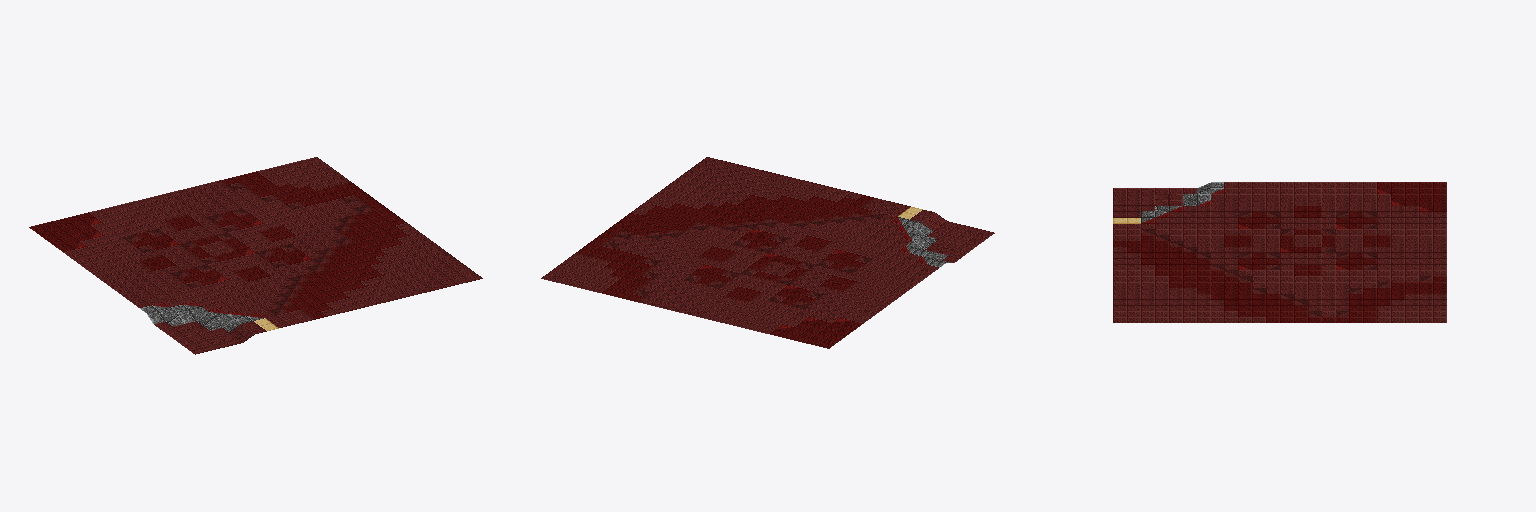
3 renders of one model, left to right at view 1: azimuth 30°, elevation 25°; view 2: azimuth 150°, elevation 25°; view 3: azimuth 270°, elevation 25°, orthographic.
Visible parts, largest first — view 1: FloorCorner_1; view 2: FloorCorner_1; view 3: FloorCorner_1.
Part boxes in pixels (x1,y1,x2,y2): FloorCorner_1: (29, 157, 482, 354); FloorCorner_1: (541, 157, 994, 348); FloorCorner_1: (1113, 182, 1446, 322).
Bounding box in the file's own units: 24 × 0.5008 × 24.
12 materials, 12 textured.